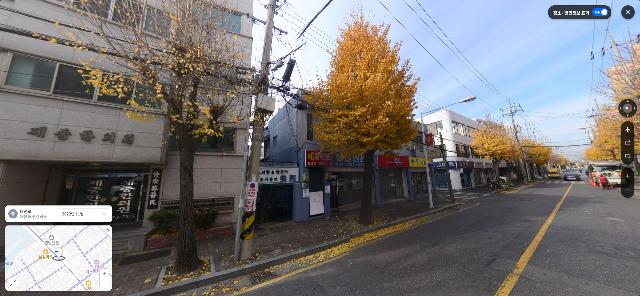ginkgo: (31, 0, 281, 275), (304, 3, 421, 226), (470, 108, 519, 185)
